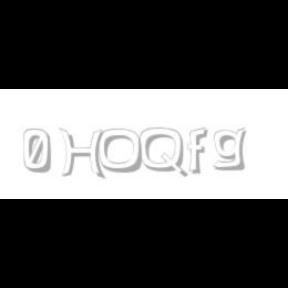0: (23, 128, 54, 174)
H: (59, 128, 105, 180)
O: (98, 128, 144, 174)
Q: (140, 128, 186, 178)
f: (187, 128, 211, 174)
g: (214, 128, 251, 171)
